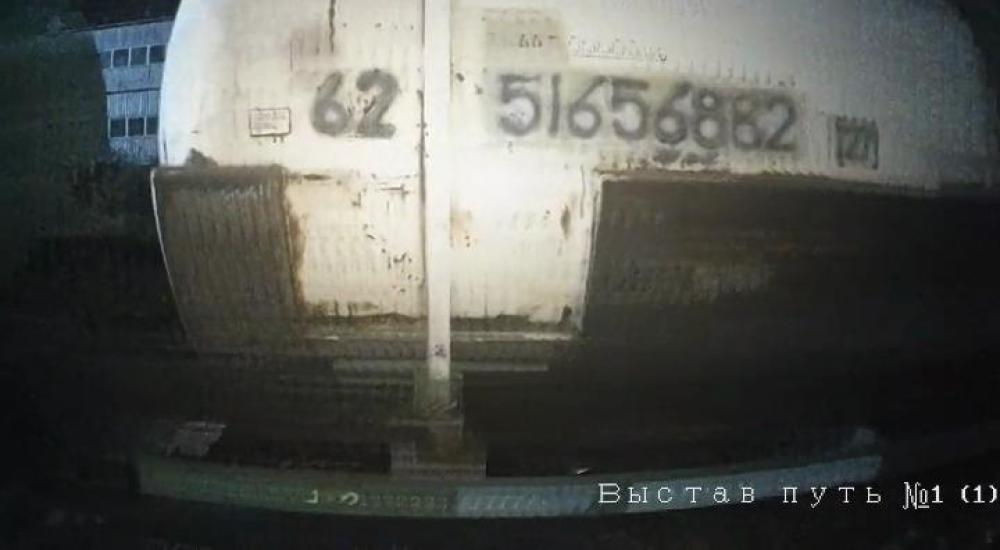Wagon-number: (489, 68, 805, 157)
